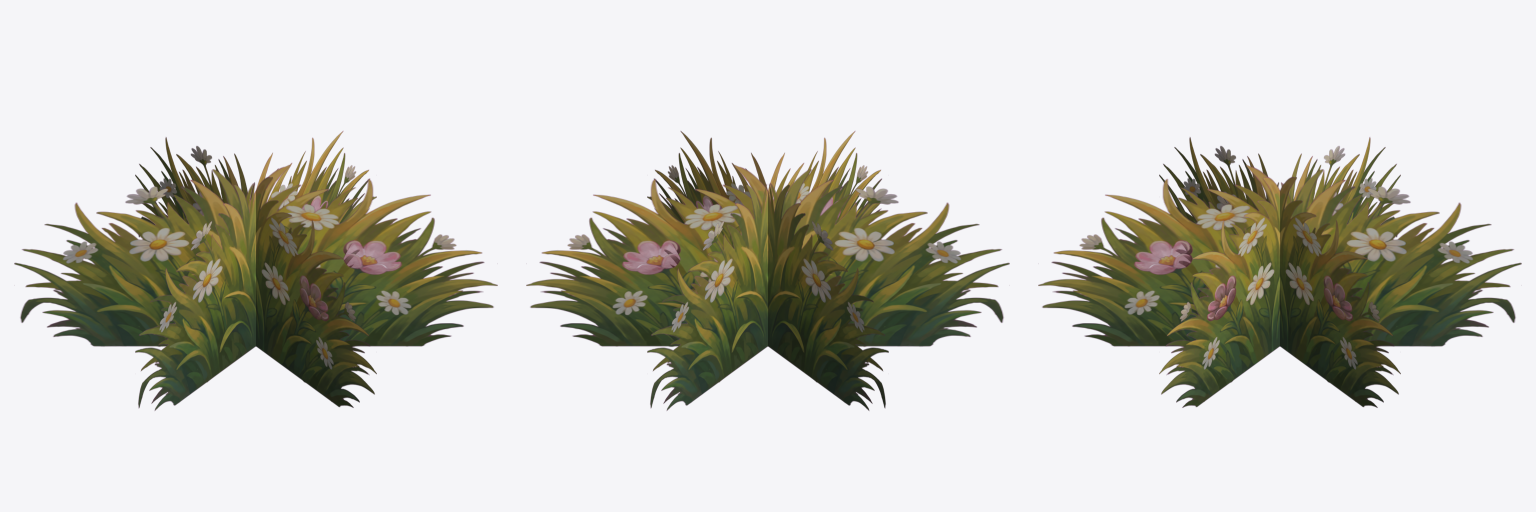
The model's file is tuft.glb.
The picture shows the model from 3 angles, left to right: view 1: azimuth 30°, elevation 25°; view 2: azimuth 150°, elevation 25°; view 3: azimuth 270°, elevation 25°; orthographic projection.
Visible parts, largest first — view 1: tuft; view 2: tuft; view 3: tuft.
Boxes of the visible parts, left/top/right/bottom form: tuft: left=14, top=131, right=497, bottom=410; tuft: left=526, top=131, right=1009, bottom=410; tuft: left=1038, top=137, right=1521, bottom=407.
Size of the model in its own units: 1.04 by 0.84 by 1.2.
1 material, 1 textured.
